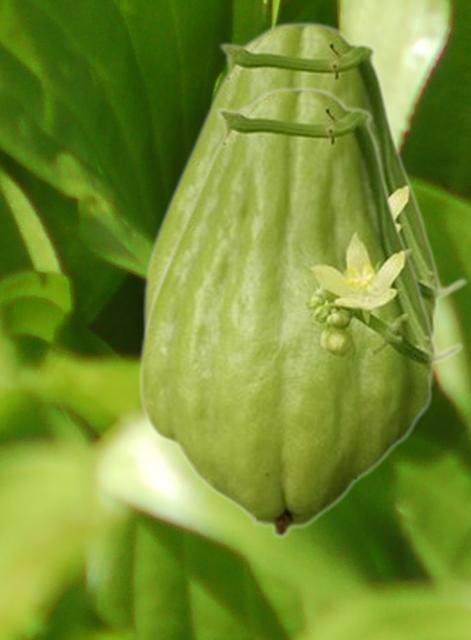sayote: (137, 86, 464, 538), (141, 21, 468, 339)
